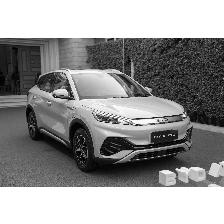EV: (26, 68, 194, 172)
